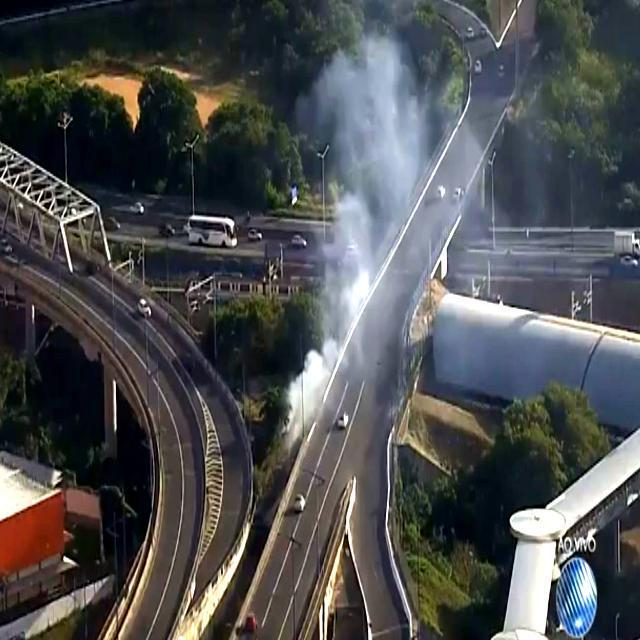Smoke: (289, 19, 431, 455)
